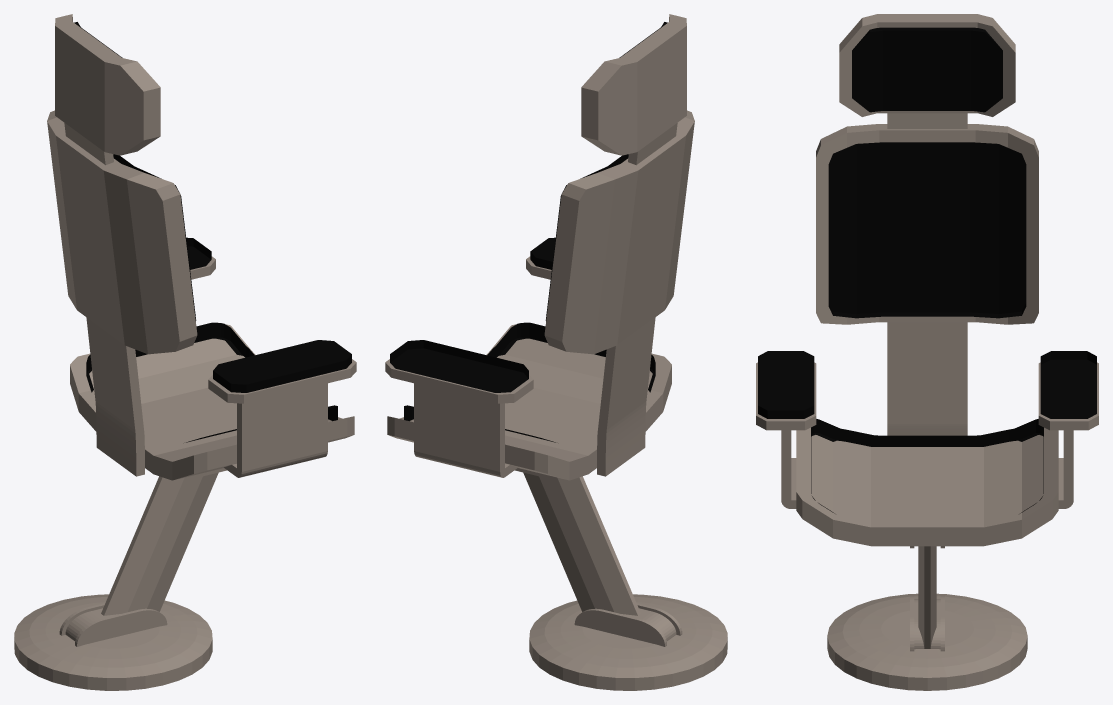
Rendered from chaise.fbx.
3 views of the same model, side by side, from view 1: azimuth 30°, elevation 25°; view 2: azimuth 150°, elevation 25°; view 3: azimuth 270°, elevation 25° (orthographic).
Parts seen in each view (by area): view 1: armature, coussins; view 2: armature, coussins; view 3: armature, coussins.
Part boxes in pixels (box(x1,y1,x2,y2)): armature: box(14, 14, 356, 690); coussins: box(74, 22, 351, 442); armature: box(385, 14, 727, 690); coussins: box(390, 22, 667, 442); armature: box(756, 14, 1098, 690); coussins: box(758, 27, 1096, 513).
Size of the model in its own units: 631 by 1362 by 684.
